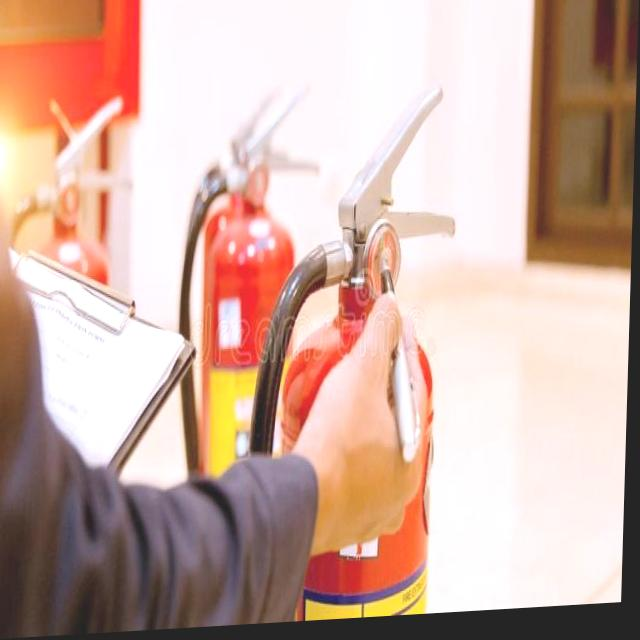FireExtinguisher: (246, 77, 468, 626), (177, 77, 329, 623), (0, 84, 146, 638)
